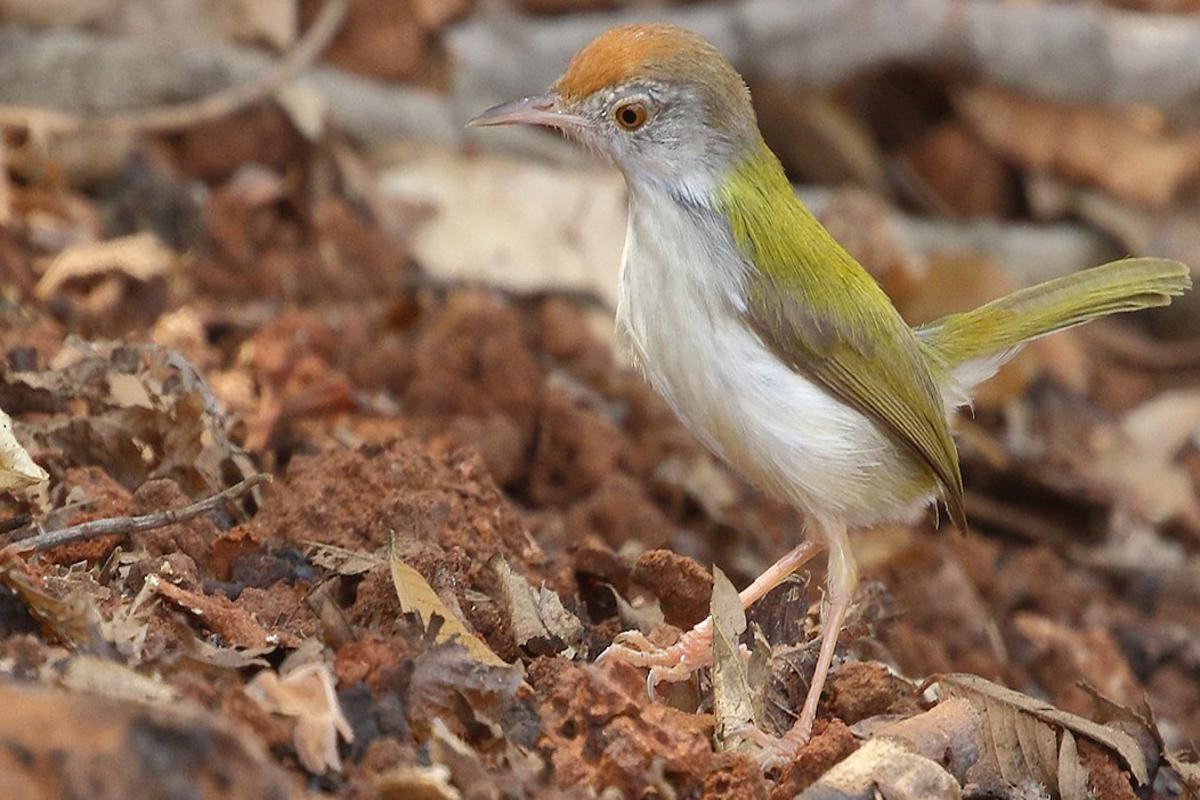tailorbird: (509, 24, 1143, 668)
